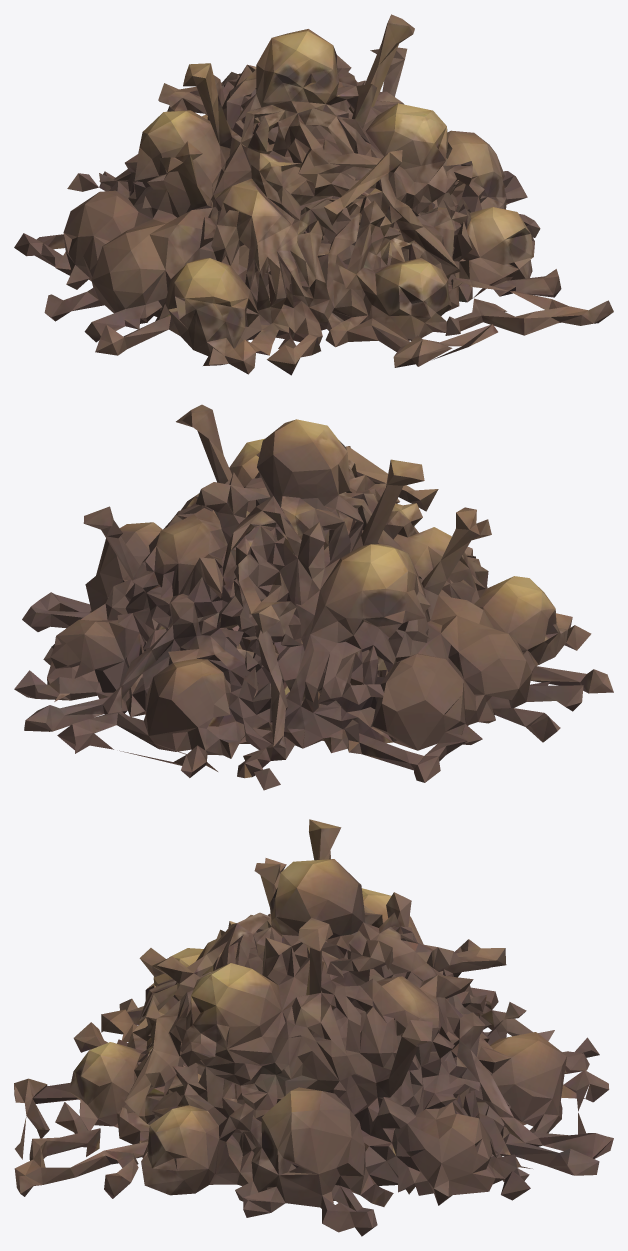
The model's file is ossuary.glb.
The picture shows the model from 3 angles, top to bottom: view 1: azimuth 30°, elevation 25°; view 2: azimuth 150°, elevation 25°; view 3: azimuth 270°, elevation 25°; orthographic projection. The views are drawn at different scales.
Visible parts, largest first — view 1: geometry_0; view 2: geometry_0; view 3: geometry_0.
Boxes of the visible parts, x1,y1,x2,y2 form: geometry_0: [14, 14, 613, 375]; geometry_0: [14, 404, 613, 790]; geometry_0: [14, 819, 613, 1236].
Bounding box in the file's own units: 1.7 × 0.7967 × 1.68.
1 material, 1 textured.
